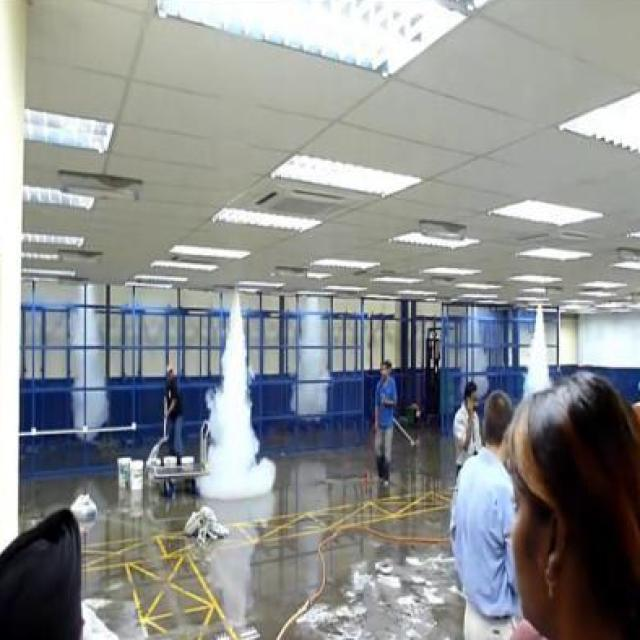fire: (192, 300, 278, 502), (518, 316, 552, 394)
